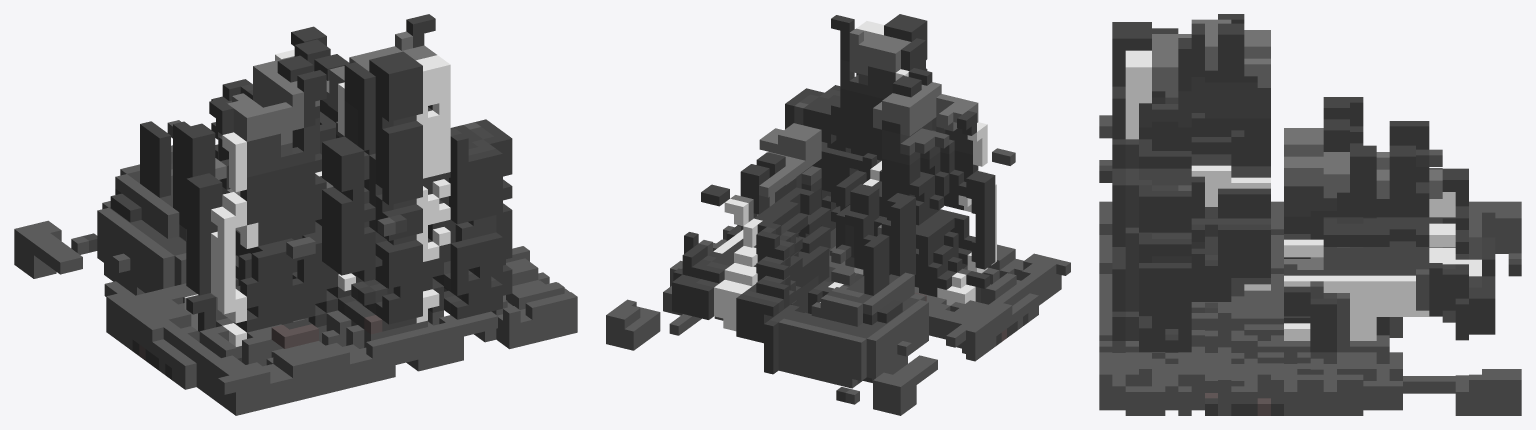
Rendered from _g_ruin 4.obj.
3 renders of one model, left to right at view 1: azimuth 30°, elevation 25°; view 2: azimuth 150°, elevation 25°; view 3: azimuth 270°, elevation 25°, orthographic. The views are drawn at different scales.
Size of the model in its own units: 3.2 by 2.6 by 3.2.
